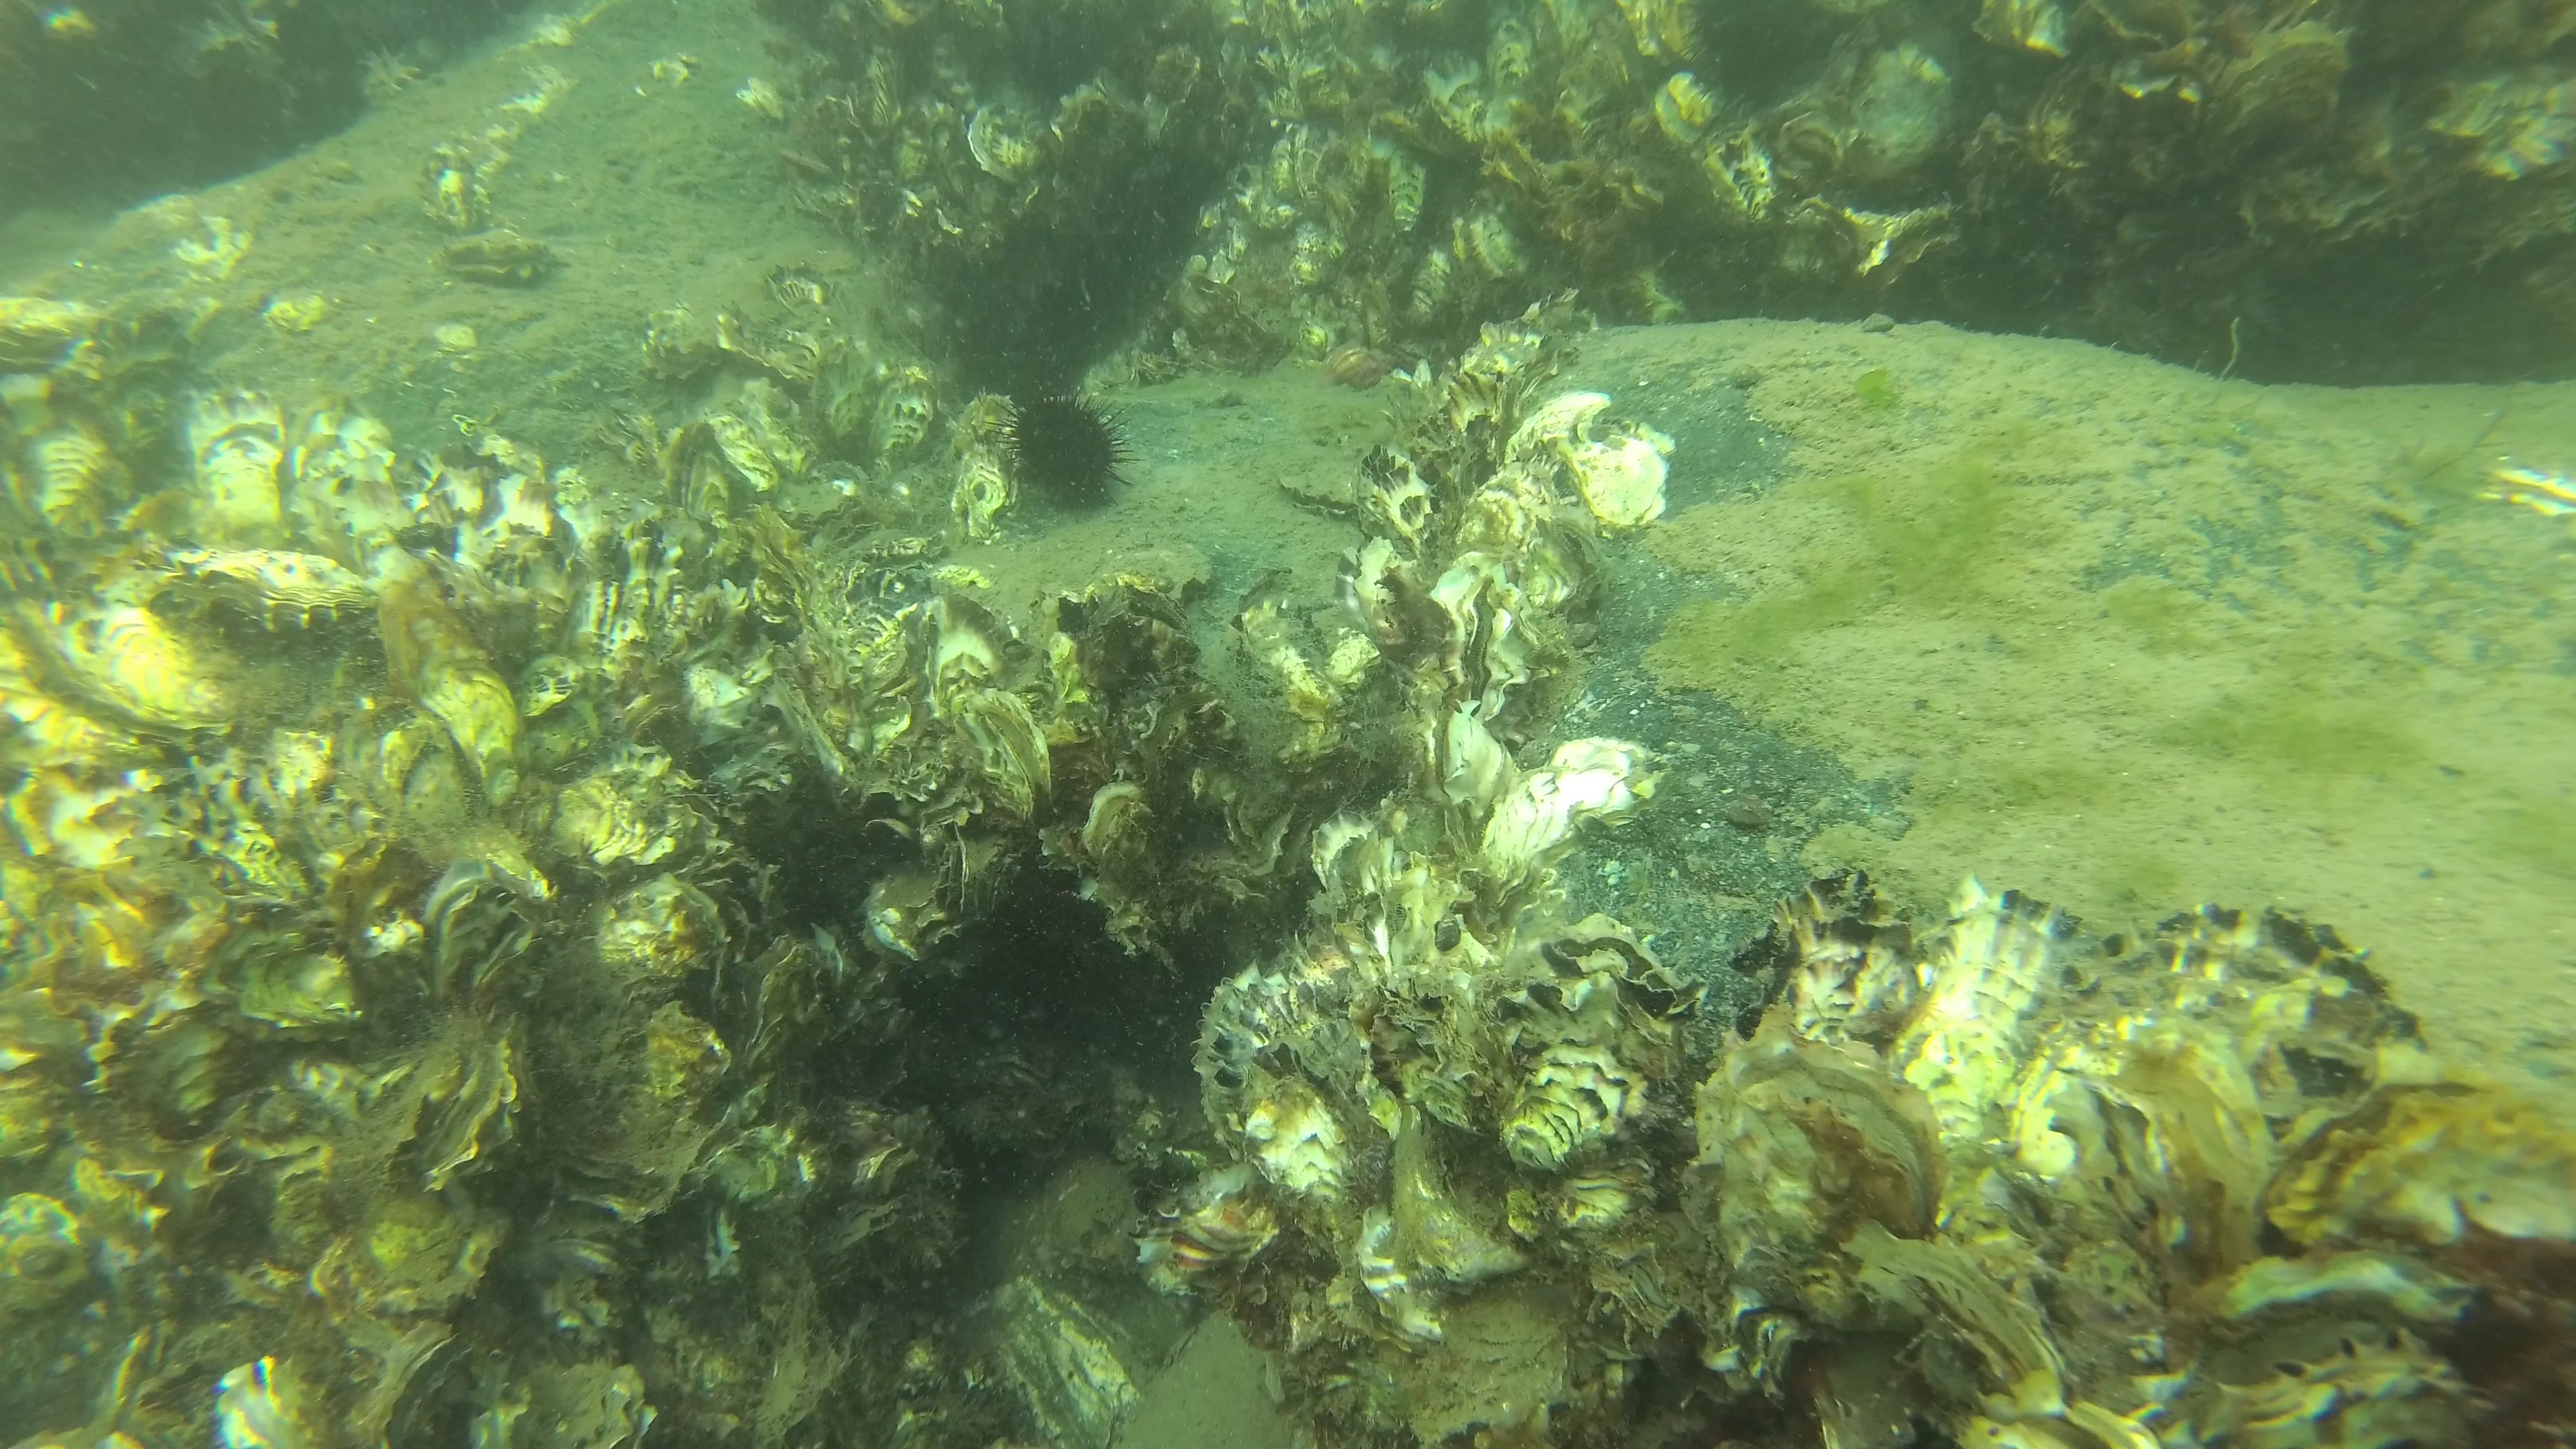echinus: (1003, 393, 1136, 517), (1684, 4, 1815, 119)
